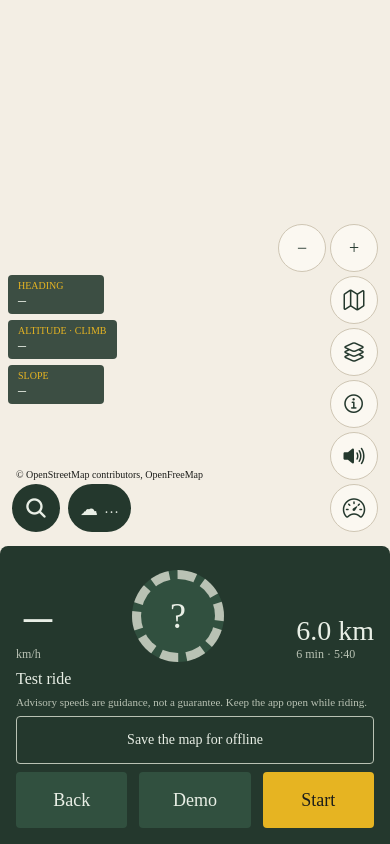
Test: a tap changes the mode in the order Full, Alerts, Off, Full, and says its name except for Off
Click the button named "Voice: full guidance. Tap to change" at [354, 456], box [330, 432, 378, 480]
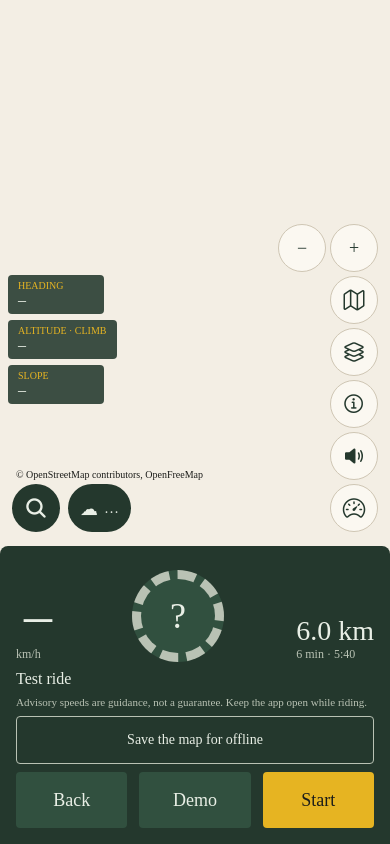
Check: the button named "Voice: alerts only. Tap to change" is shown
Click the button named "Voice: alerts only. Tap to change" at [354, 456], box [330, 432, 378, 480]
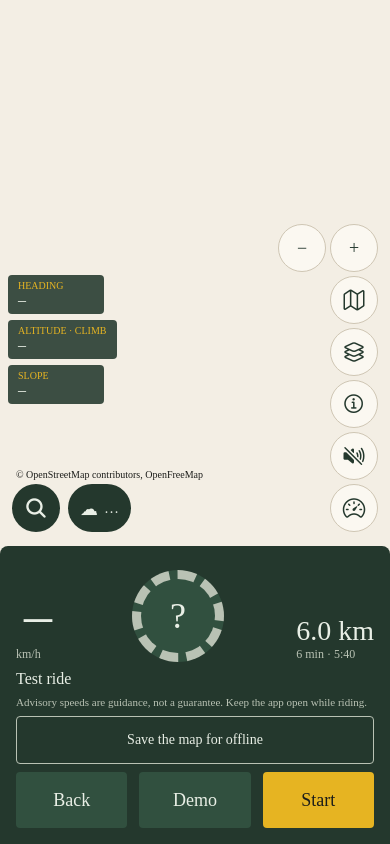
Check: the button named "Voice: off. Tap to change" is shown
Click the button named "Voice: off. Tap to change" at [354, 456], box [330, 432, 378, 480]
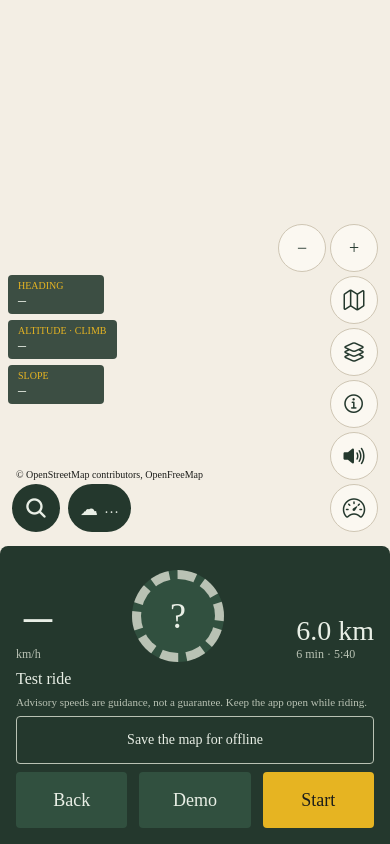
Check: the button named "Voice: full guidance. Tap to change" is shown, box [330, 432, 378, 480]
